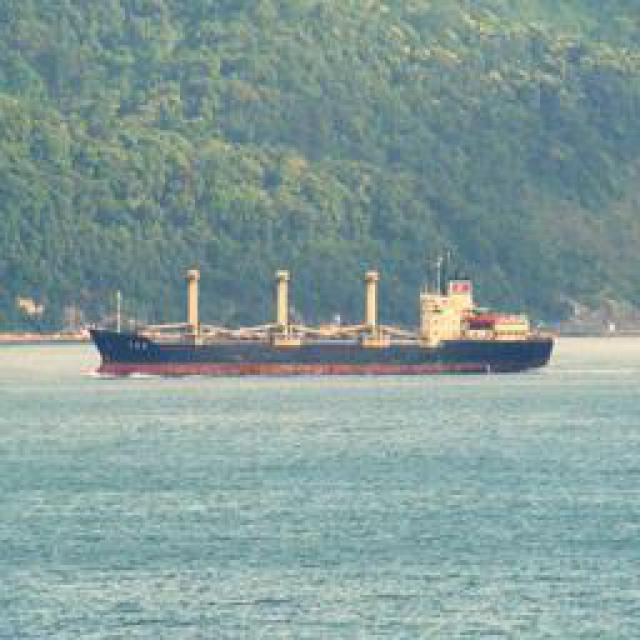Ship: (80, 267, 555, 375)
